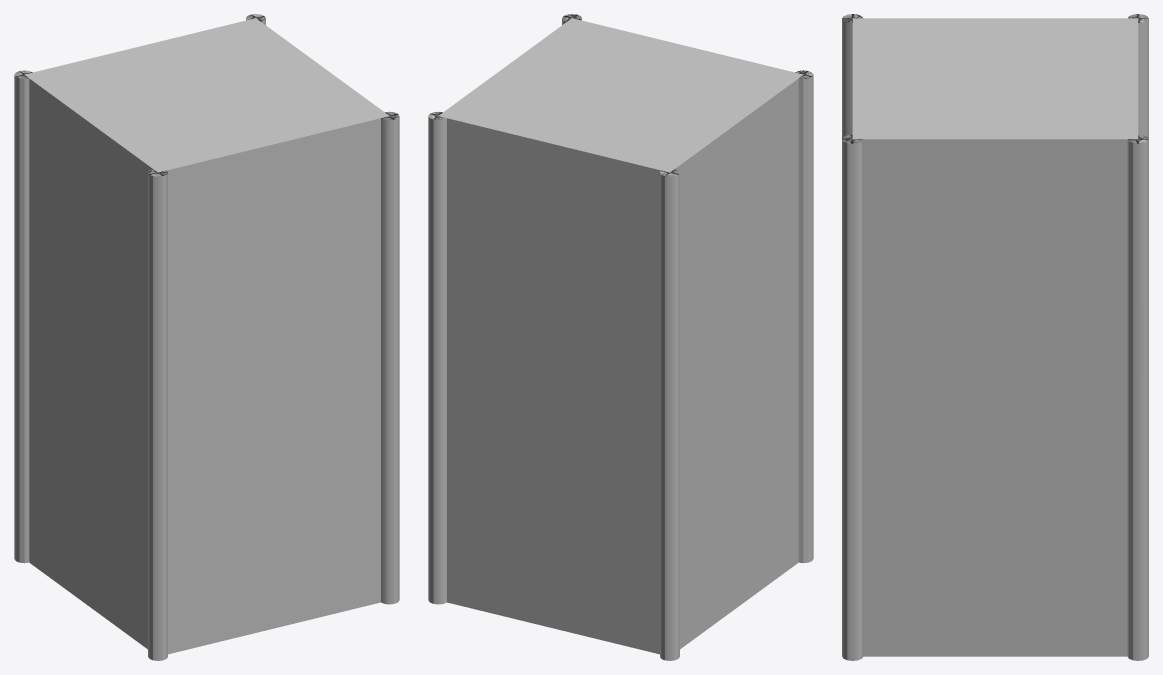
Rendered from Säule_Eckig_2x4m.gltf.
3 views of the same model, side by side, from view 1: azimuth 30°, elevation 25°; view 2: azimuth 150°, elevation 25°; view 3: azimuth 270°, elevation 25° (orthographic). The views are drawn at different scales.
Visible parts, largest first — view 1: Säule_Eckig_2x4m; view 2: Säule_Eckig_2x4m; view 3: Säule_Eckig_2x4m.
Boxes of the visible parts, x1=… form: Säule_Eckig_2x4m: x1=14, y1=14, x2=399, y2=660; Säule_Eckig_2x4m: x1=428, y1=14, x2=813, y2=660; Säule_Eckig_2x4m: x1=842, y1=14, x2=1148, y2=660.
Bounding box in the file's own units: 2.15 × 4 × 2.15.
